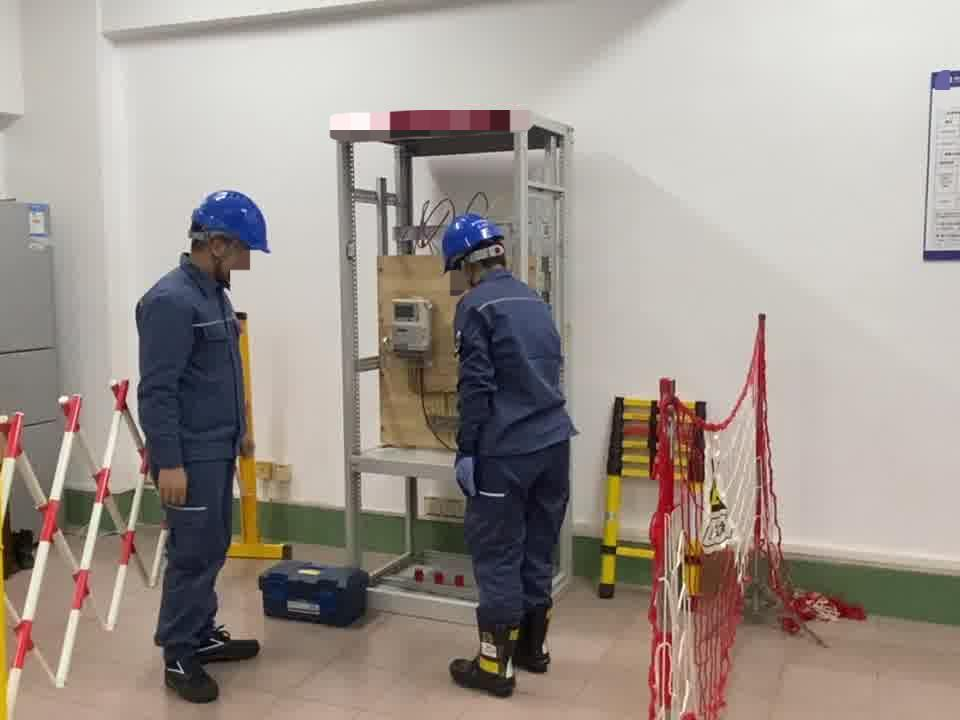halt: (189, 191, 272, 282), (442, 216, 511, 285)
inear: (205, 232, 238, 274)
